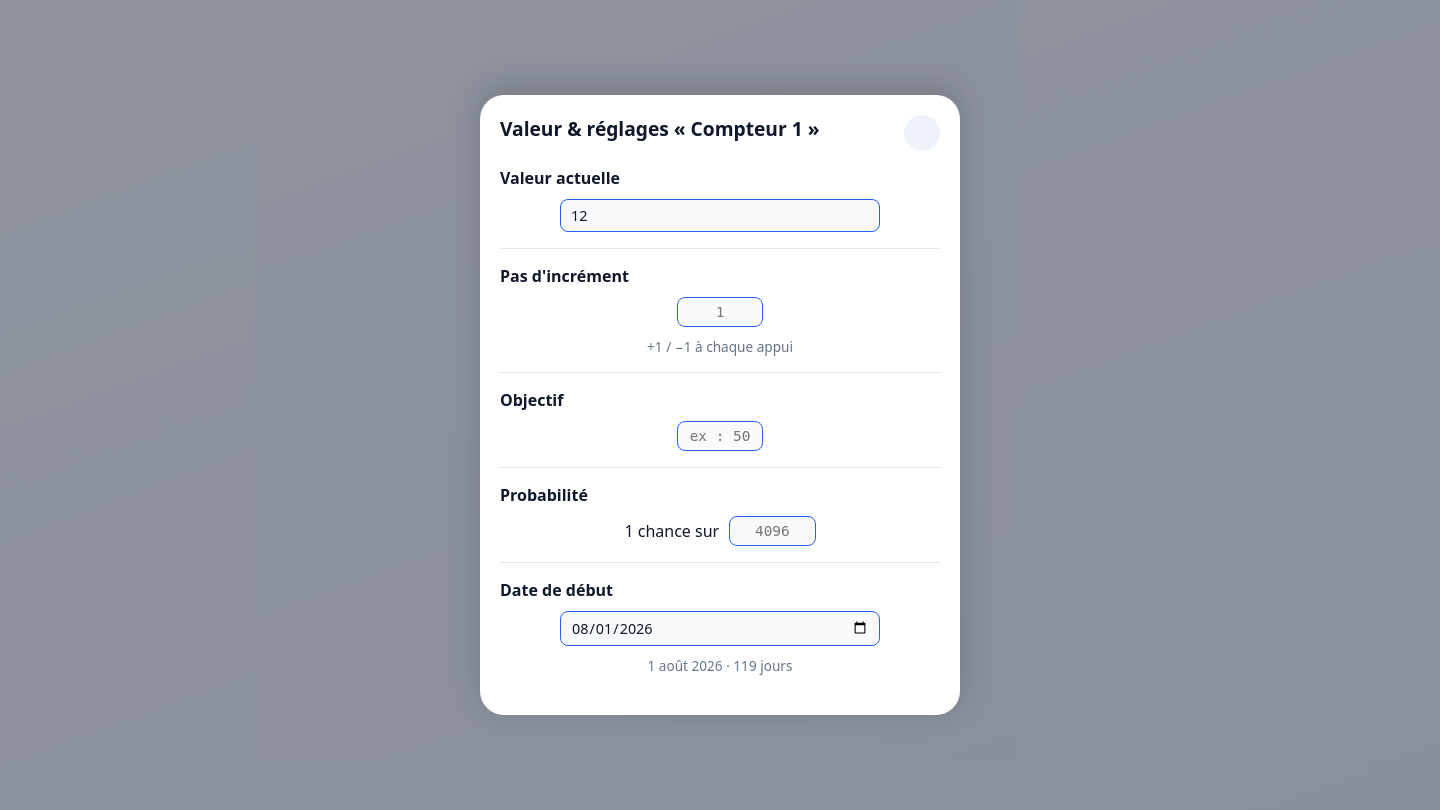
CounterBehaviorSettingsPanel › valeur actuelle › efface l'erreur dès que la saisie est modifiée
This screenshot has width=1440, height=810.
Clear the field showing "12" at [720, 216], box x1=560 y1=199 x2=880 y2=232
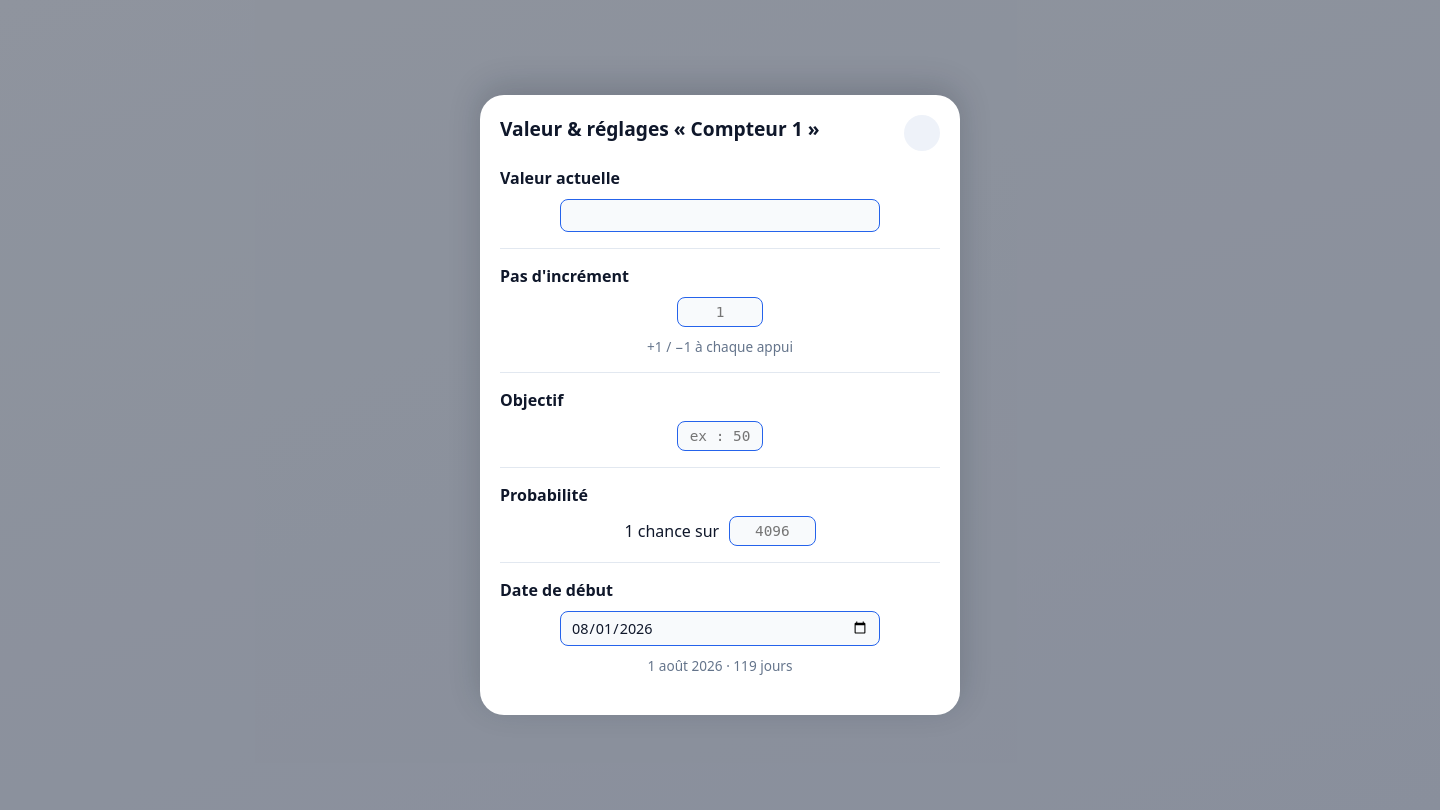
Press Enter in the field showing "12", box x1=560 y1=199 x2=880 y2=232
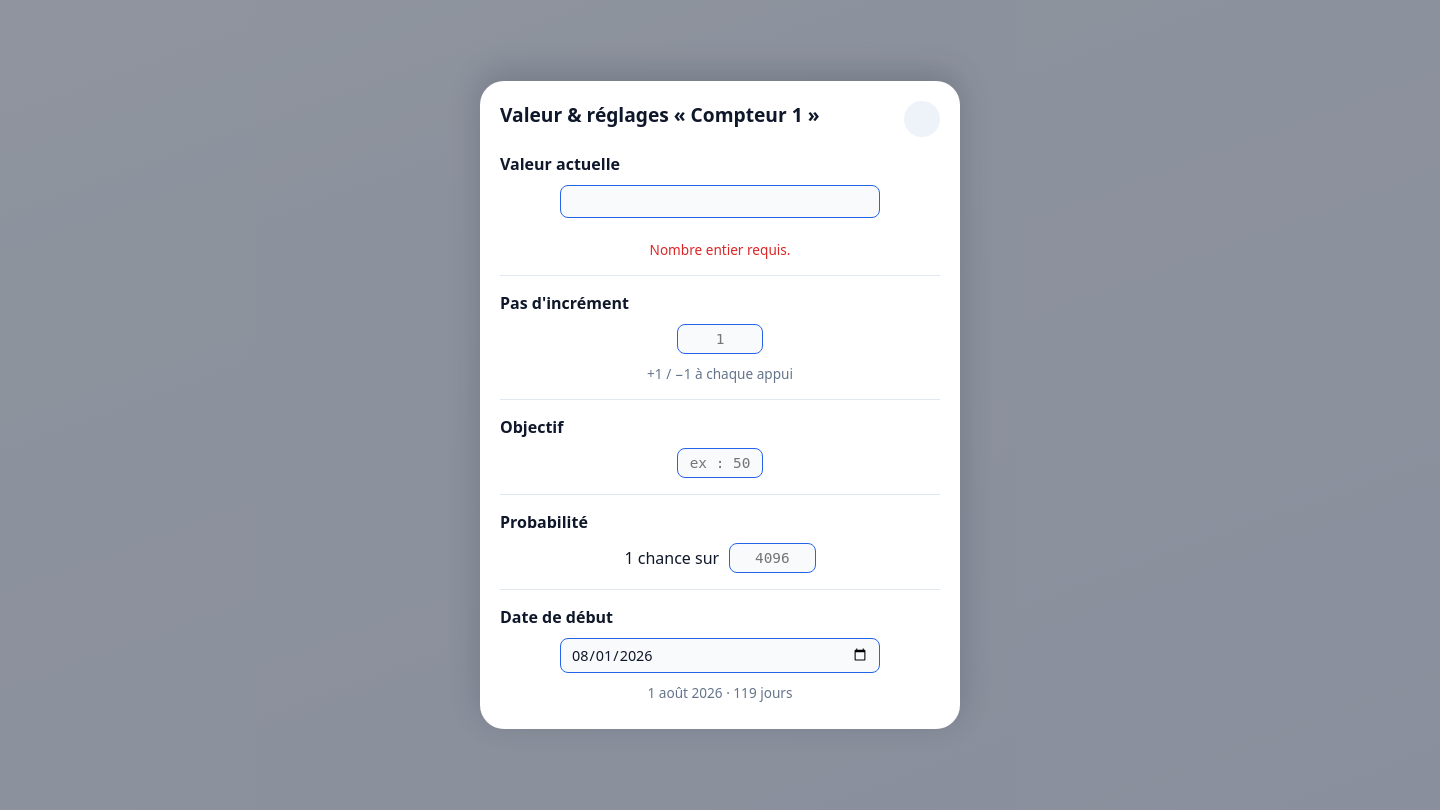
Check: the text "Nombre entier requis." is shown, box x1=650 y1=240 x2=790 y2=259
Type "5" into the field showing "12".
click(720, 202); type("5")  # box x1=560 y1=185 x2=880 y2=218
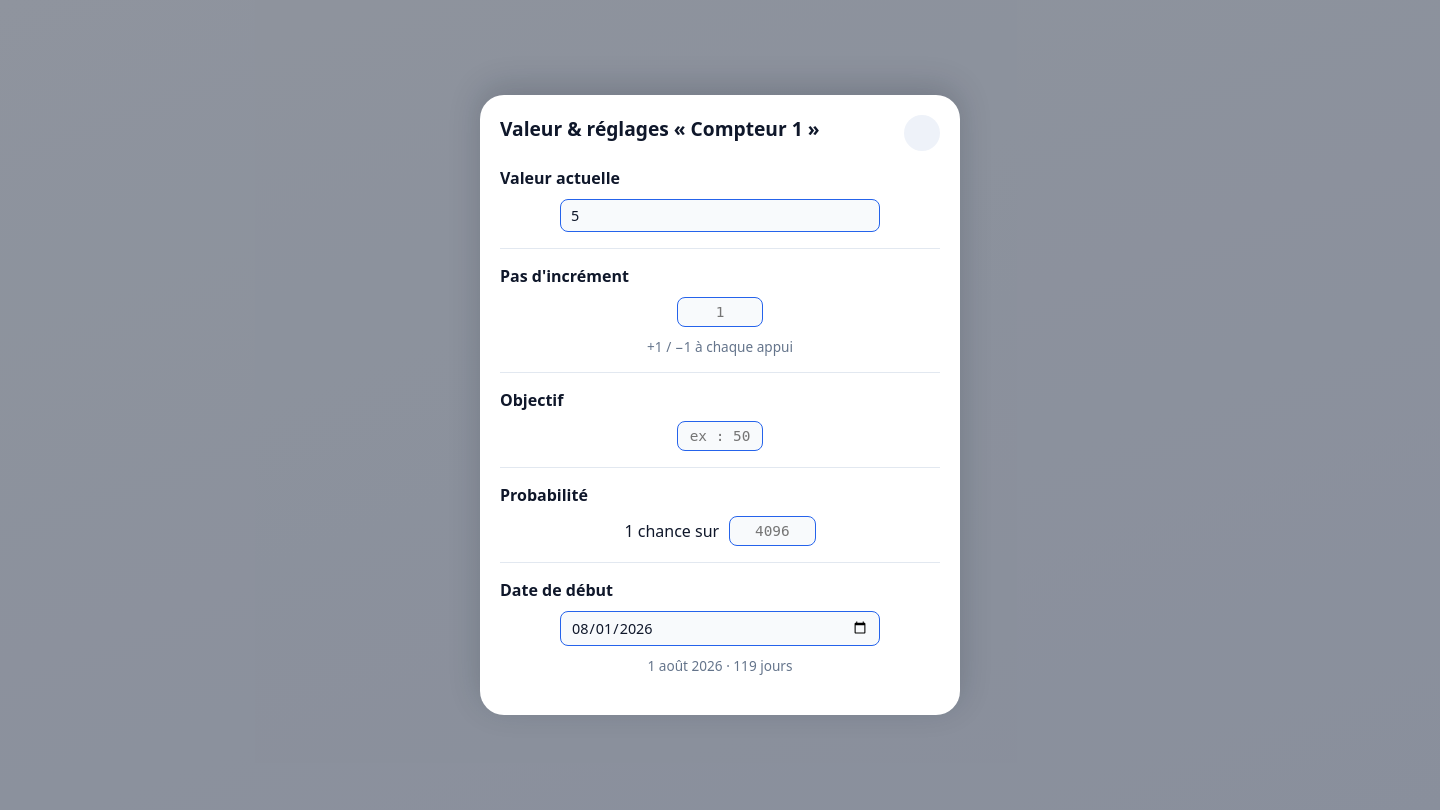
Check: the text "Nombre entier requis." is gone
